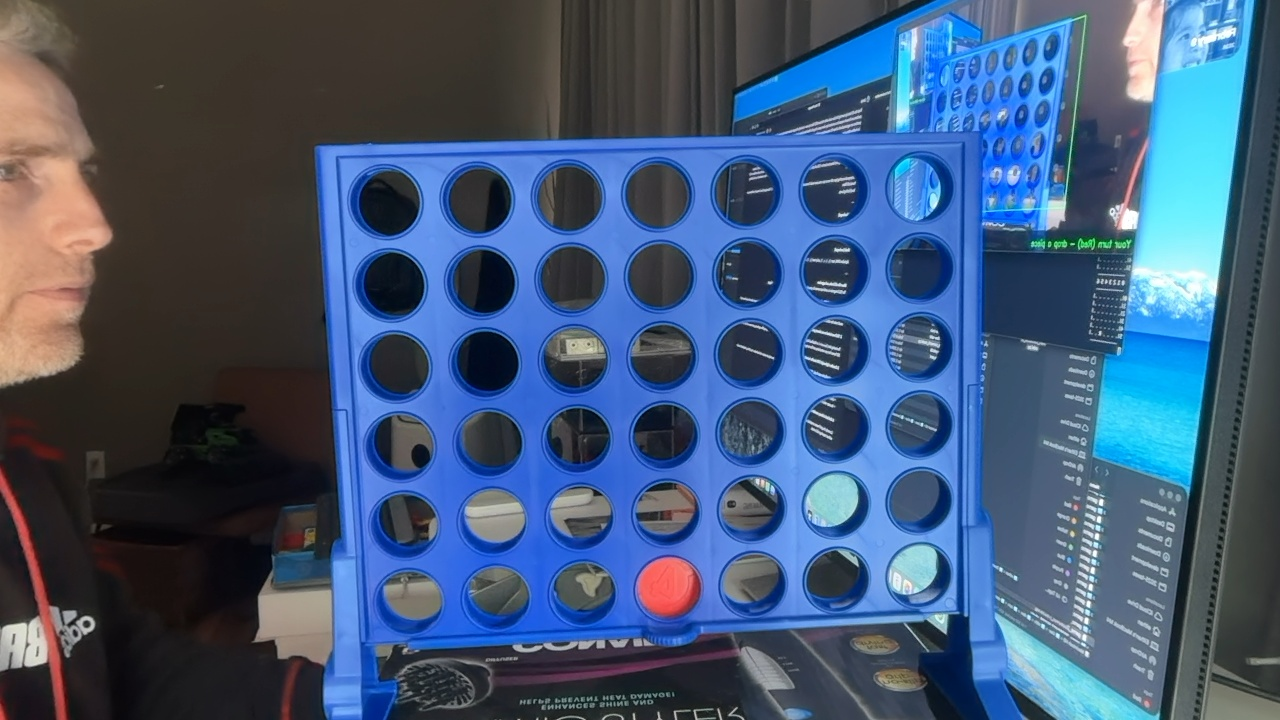red piece: (637, 557, 701, 618)
